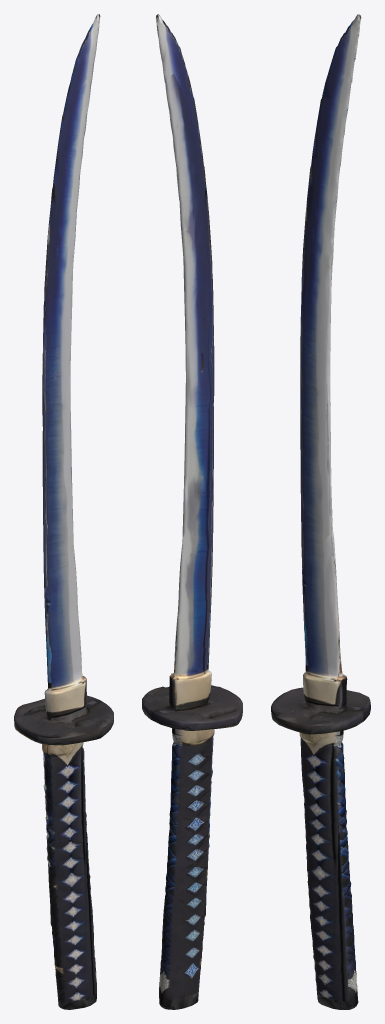
The model's file is katana.glb.
3 views of the same model, side by side, from view 1: azimuth 30°, elevation 25°; view 2: azimuth 210°, elevation 25°; view 3: azimuth 330°, elevation 25° (orthographic).
Size of the model in its own units: 0.0901 by 1 by 0.0893.
Materials: 1 (1 with a texture image).
